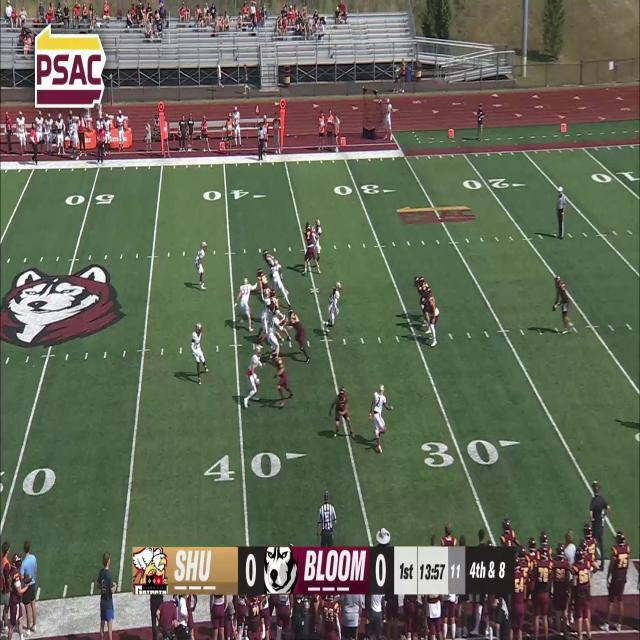football: (551, 302, 557, 312)
